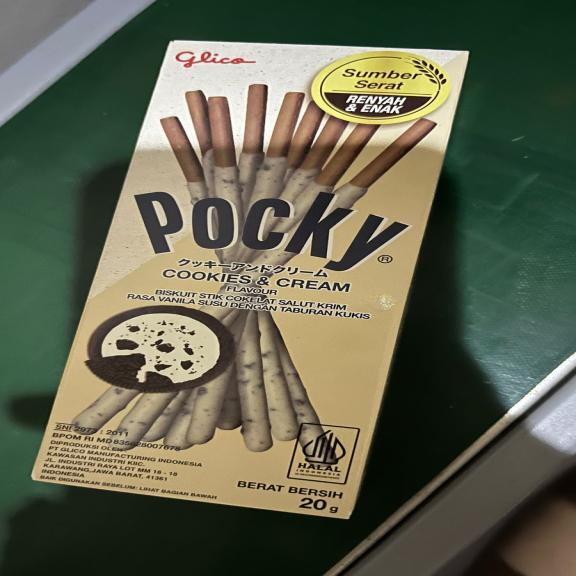Kertas: (34, 32, 474, 528)
